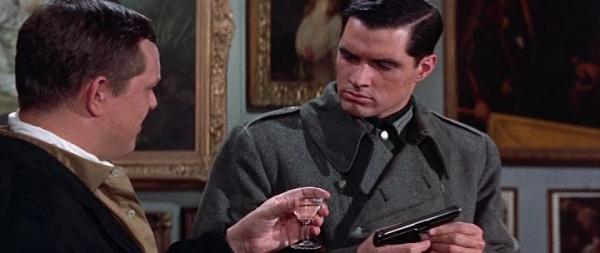Gun: (373, 205, 464, 248)
